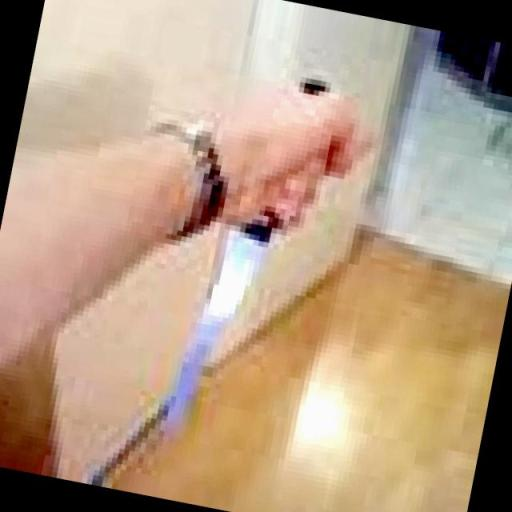knife: (106, 29, 356, 470)
